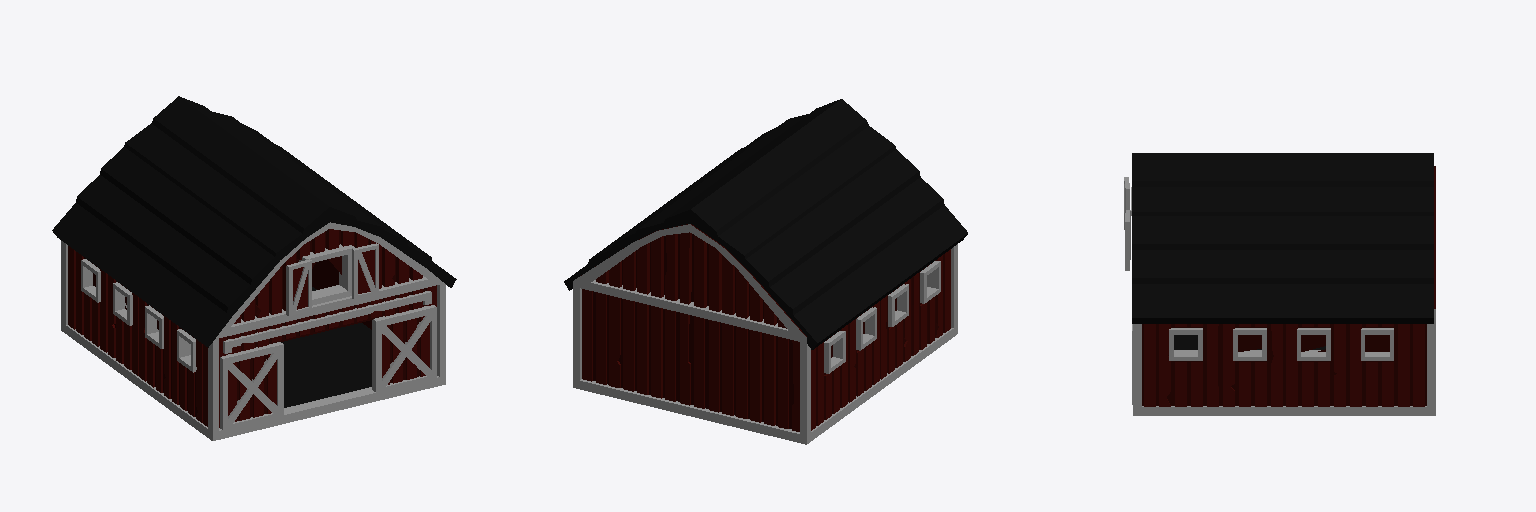
File: new-barn.obj
3 views of the same model, side by side, from view 1: azimuth 30°, elevation 25°; view 2: azimuth 150°, elevation 25°; view 3: azimuth 270°, elevation 25° (orthographic).
Visible parts, largest first — view 1: Barn_Cube.005, Barn_Door_Cube.002, Barn_Door2_Cube.007, Barn_Window_Cube, Barn_Window2_Cube.014; view 2: Barn_Cube.005; view 3: Barn_Cube.005.
Boxes of the visible parts, <box> form: Barn_Cube.005: <box>52,96,456,440</box>; Barn_Door_Cube.002: <box>372,305,436,394</box>; Barn_Door2_Cube.007: <box>220,342,283,432</box>; Barn_Window_Cube: <box>352,243,378,299</box>; Barn_Window2_Cube.014: <box>286,259,311,315</box>; Barn_Cube.005: <box>564,99,967,444</box>; Barn_Cube.005: <box>1131,153,1435,415</box>.
Bounding box in the file's own units: 7.73 × 6.01 × 8.22.